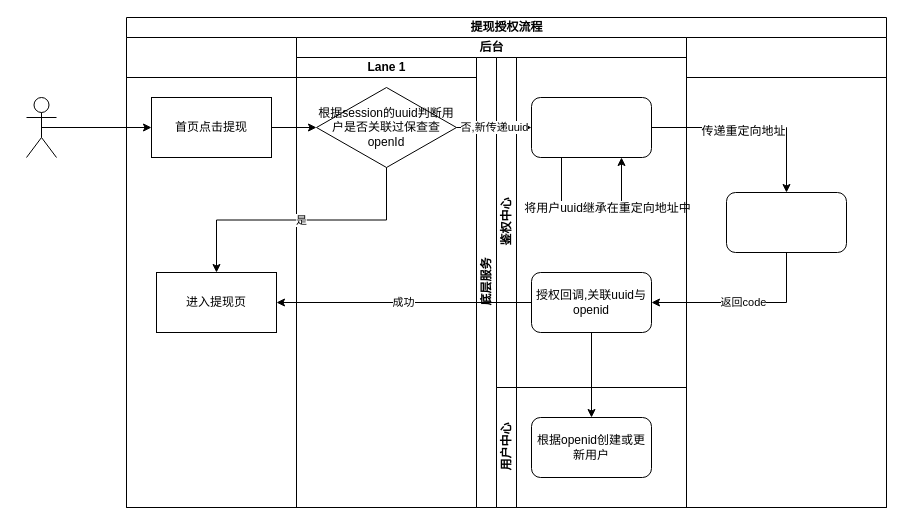
Some shapes in this 904 by 525 pixel diagram are drawn without their labels. Each missing label, with the box of its shape:
前端: (126, 36, 296, 508)
微信: (686, 36, 886, 508)
提现用户: (26, 96, 56, 158)
无授权登录: (726, 192, 846, 252)
获取静默授权地址并重定向至微信: (530, 96, 652, 158)
